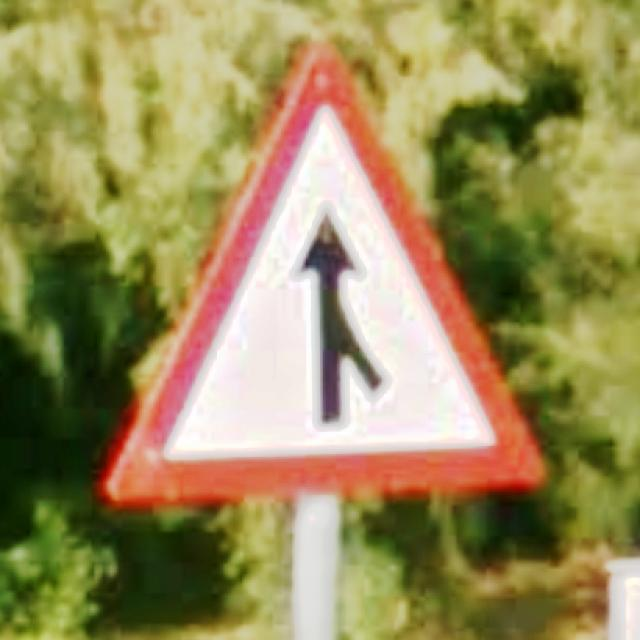rightmerge: (105, 44, 545, 504)
